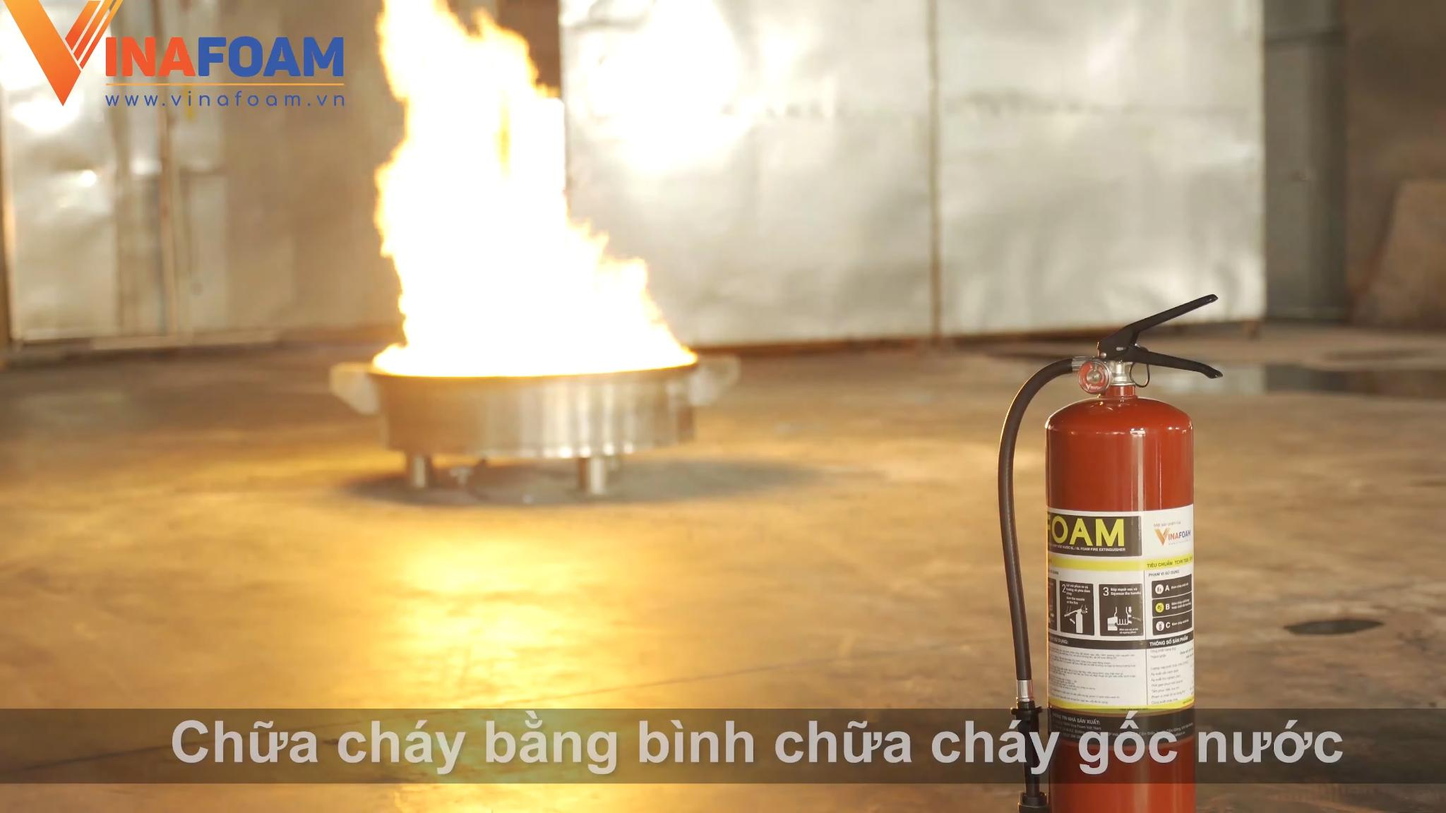FireExtinguisher: (1002, 296, 1239, 813)
not: (354, 0, 709, 424), (364, 478, 651, 813), (1, 0, 191, 119)
